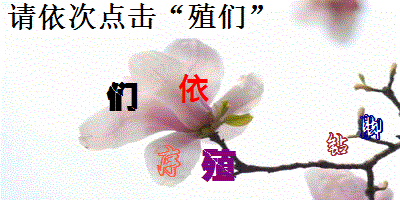text: (199, 148, 238, 183), (106, 81, 138, 112), (178, 73, 209, 103), (156, 145, 183, 178), (359, 113, 384, 141), (325, 130, 349, 157)
